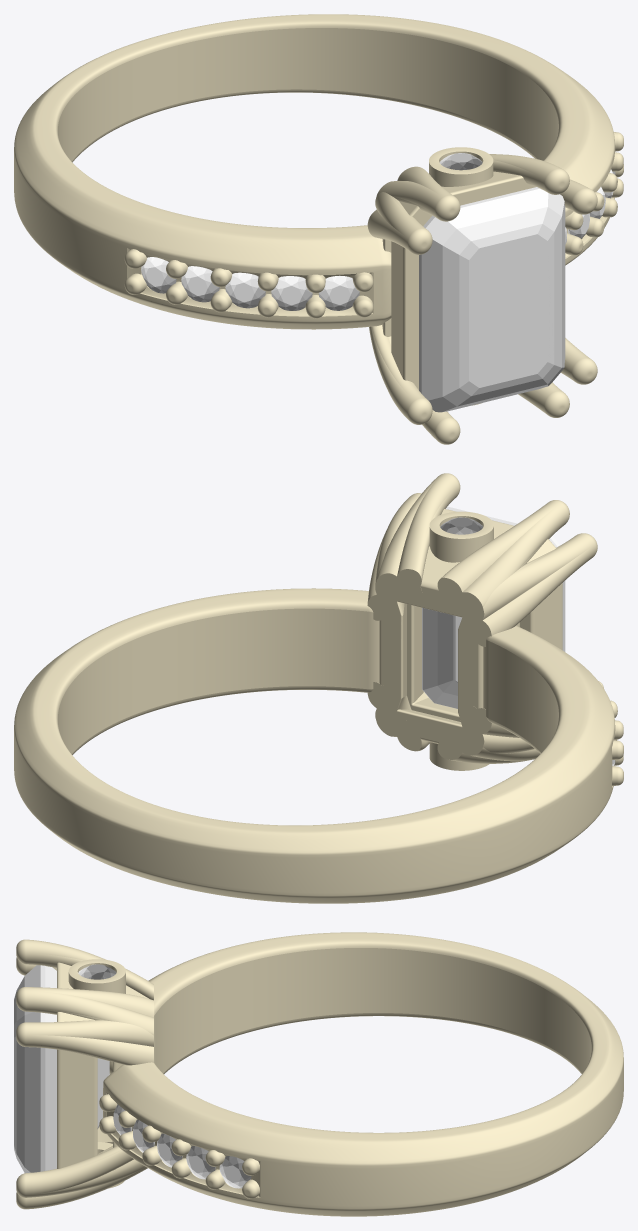
File: ring1.glb
3 views of the same model, one above another, from view 1: azimuth 30°, elevation 25°; view 2: azimuth 150°, elevation 25°; view 3: azimuth 270°, elevation 25° (orthographic). The views are drawn at different scales.
Visible parts, largest first — view 1: Head Rail_0, Diamond_Emerald_13, Diamond_Round_4, Diamond_Round_5, Diamond_Round_3, Diamond_Round_2, Diamond_Round_1; view 2: Head Rail_0, Diamond_Emerald_13; view 3: Head Rail_0, Diamond_Emerald_13, Diamond_Round_6, Diamond_Round_7, Diamond_Round_8, Diamond_Round_12.
Part boxes in pixels (box(x1,y1,x2,y2)): Head Rail_0: box(14, 14, 623, 444); Diamond_Emerald_13: box(419, 187, 565, 412); Diamond_Round_4: box(271, 276, 312, 310); Diamond_Round_5: box(318, 275, 359, 310); Diamond_Round_3: box(225, 272, 265, 308); Diamond_Round_2: box(181, 266, 219, 302); Diamond_Round_1: box(141, 257, 176, 293); Head Rail_0: box(14, 473, 623, 903); Diamond_Emerald_13: box(422, 506, 565, 708); Head Rail_0: box(16, 932, 623, 1216); Diamond_Emerald_13: box(14, 965, 109, 1173); Diamond_Round_6: box(219, 1156, 251, 1188); Diamond_Round_7: box(186, 1146, 215, 1179); Diamond_Round_8: box(157, 1133, 182, 1167); Diamond_Round_12: box(78, 964, 116, 979).
Size of the model in its own units: 21.8 by 9.9 by 24.87.
